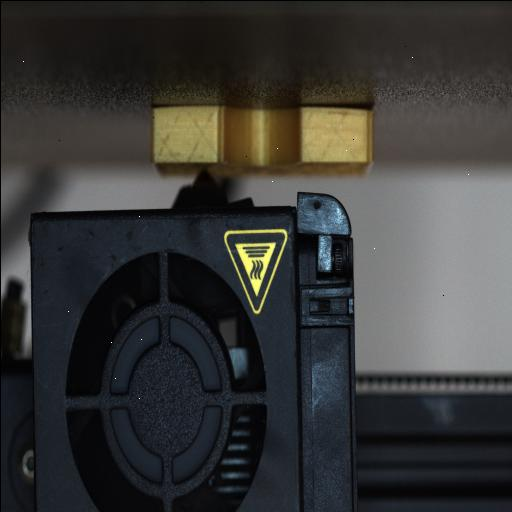warp: (326, 102, 374, 116)
